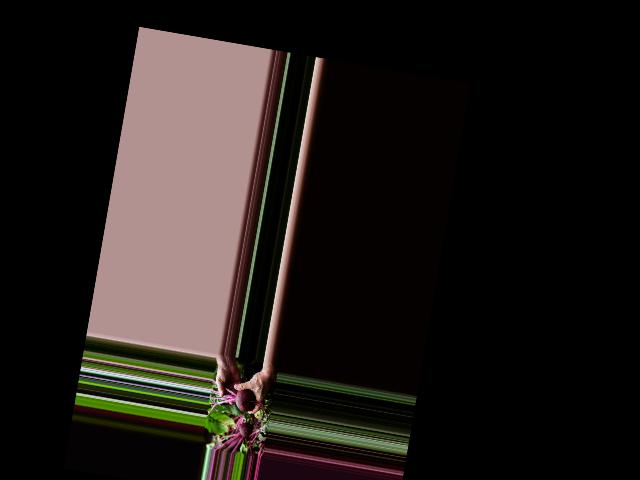beet: (206, 382, 258, 425)
